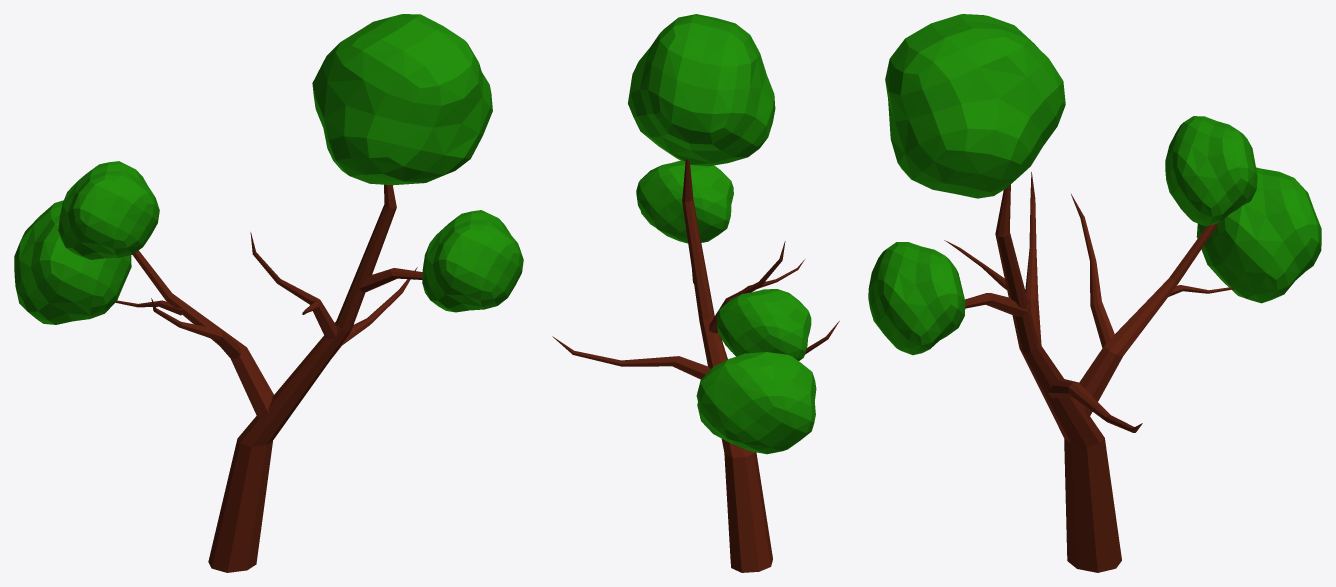
Rendered from tree4.obj.
3 views of the same model, side by side, from view 1: azimuth 30°, elevation 25°; view 2: azimuth 150°, elevation 25°; view 3: azimuth 270°, elevation 25° (orthographic). The views are drawn at different scales.
Visible parts, largest first — view 1: default4.1231; view 2: default4.1231; view 3: default4.1231.
Boxes of the visible parts, bbox=[...] form: default4.1231: bbox=[14, 14, 523, 572]; default4.1231: bbox=[552, 14, 839, 572]; default4.1231: bbox=[868, 14, 1321, 572].
Size of the model in its own units: 5.95 by 9.01 by 6.17.
Materials: 2 (2 with a texture image).
